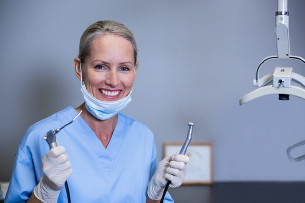face: (81, 37, 136, 108)
